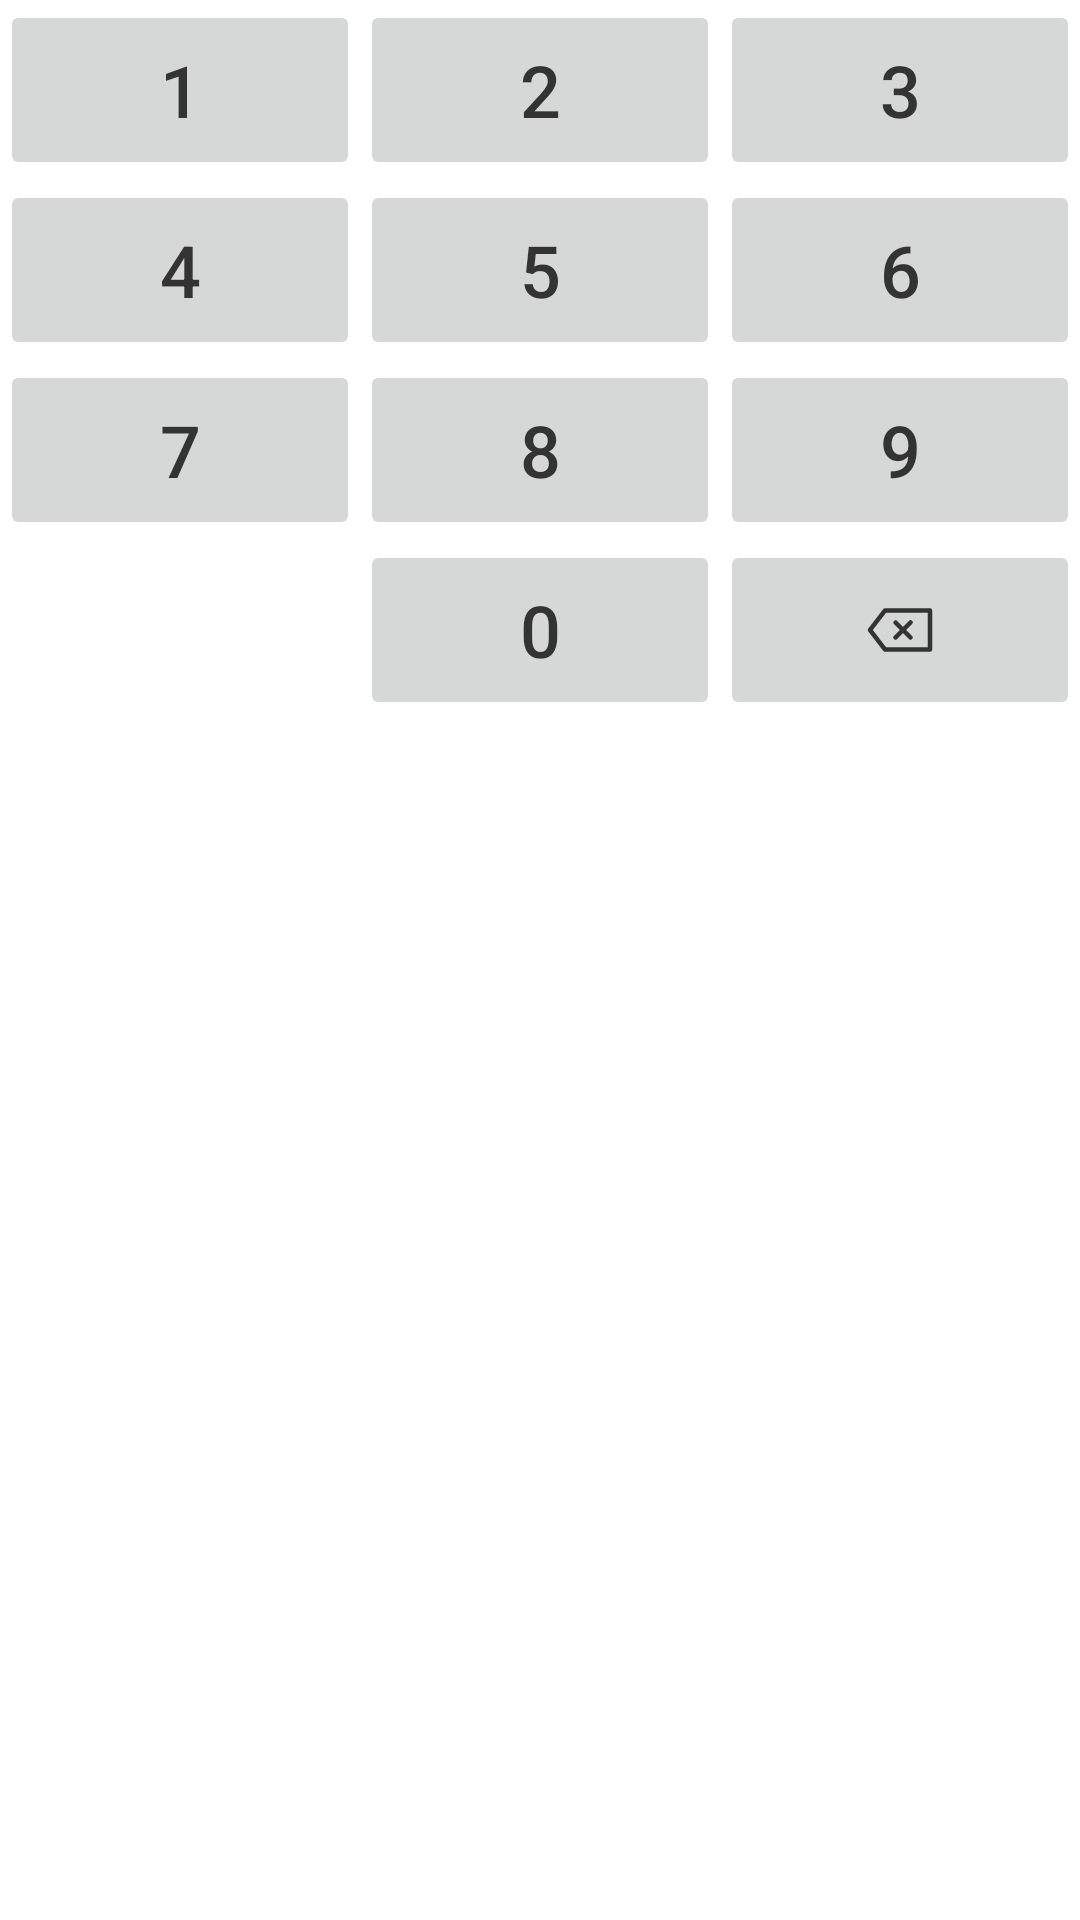

Icon bounding boxes for this 1080px×1920px phone screenshot, format (x1=x1, y1=y1, x2=x2, y2=y2):
backspace: (x1=732, y1=558, x2=1068, y2=702)
